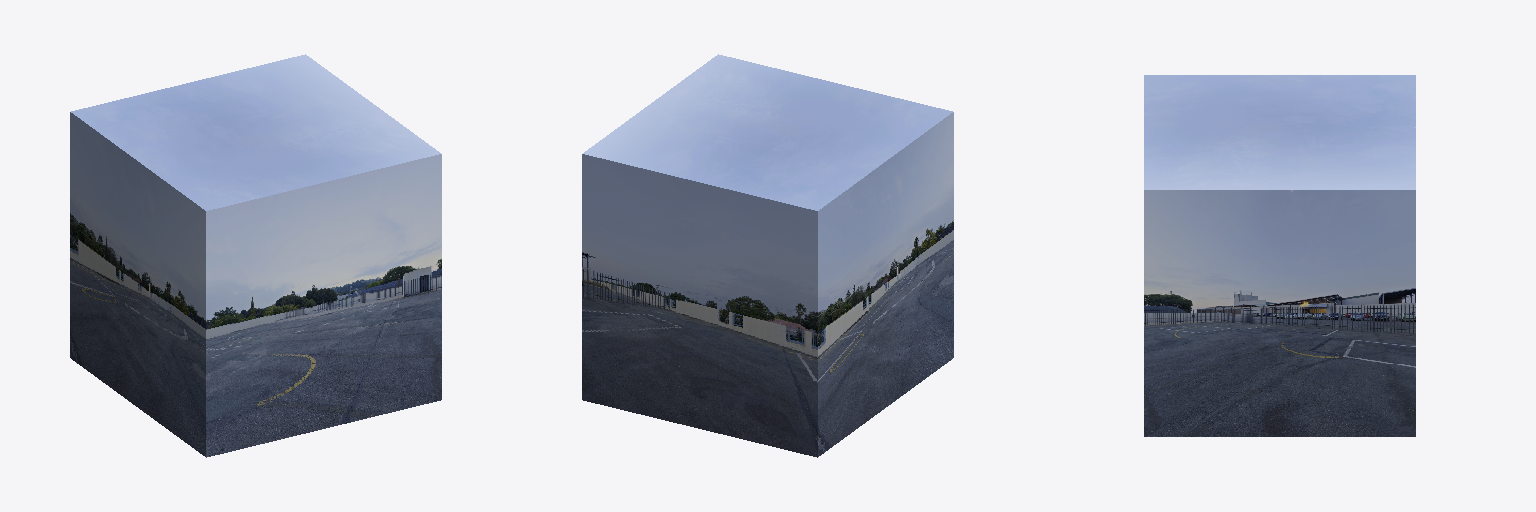
The picture shows the model from 3 angles: view 1: azimuth 30°, elevation 25°; view 2: azimuth 150°, elevation 25°; view 3: azimuth 270°, elevation 25°; orthographic projection.
Visible parts, largest first — view 1: Cube; view 2: Cube; view 3: Cube.
Part boxes in pixels (left/top/right/bottom): Cube: left=70, top=54, right=441, bottom=457; Cube: left=582, top=54, right=953, bottom=457; Cube: left=1144, top=75, right=1415, bottom=436.
Size of the model in its own units: 2 by 2 by 2.
Materials: 1 (1 with a texture image).